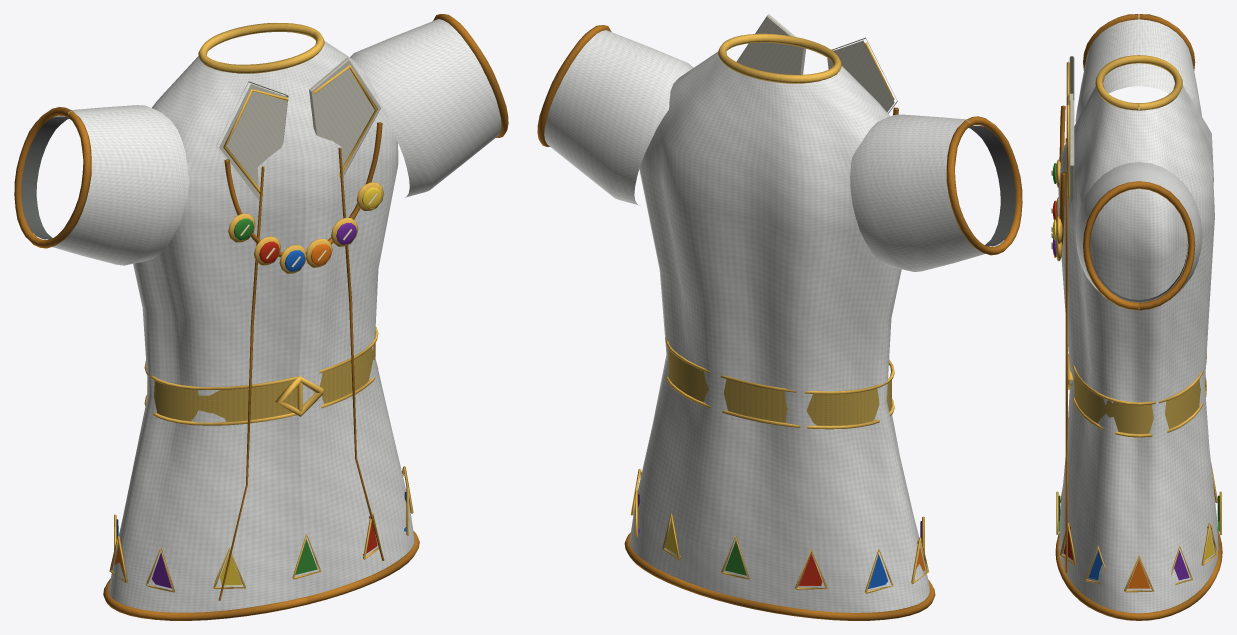
The model's file is sages_tunic.glb.
3 renders of one model, left to right at view 1: azimuth 30°, elevation 25°; view 2: azimuth 150°, elevation 25°; view 3: azimuth 270°, elevation 25°, orthographic. The views are drawn at different scales.
Parts seen in each view (by area): view 1: White woven sage robe, Hollow stitched sleeve (×2), Folded V-neck collar (×2), Fitted waist belt, Rolled sleeve cuff edge (×2), Sage robe gold hem seam, Sage robe front gold stitched seam (×2), Open neckline rolled seam, Sleeve dark inner cuff, Waist belt sewn piping (×2), Six sages embroidered neck chain, Square waist buckle rim; view 2: White woven sage robe, Hollow stitched sleeve (×2), Fitted waist belt, Folded V-neck collar (×2), Rolled sleeve cuff edge (×2), Sage robe gold hem seam, Open neckline rolled seam, Sleeve dark inner cuff, Waist belt sewn piping (×2); view 3: White woven sage robe, Hollow stitched sleeve (×2), Rolled sleeve cuff edge (×2), Fitted waist belt, Sage robe gold hem seam, Open neckline rolled seam, Sage robe front gold stitched seam, Waist belt sewn piping (×2), Folded V-neck collar (×2), Sage colored hem triangle (×2), Six sages embroidered neck chain, Collar stitched edging (+1 smaller).
Boxes of the visible parts, bbox=[...] form: White woven sage robe: bbox=[108, 41, 414, 612]; Hollow stitched sleeve (×2): bbox=[52, 19, 501, 265]; Folded V-neck collar (×2): bbox=[216, 57, 381, 199]; Fitted waist belt: bbox=[147, 343, 375, 421]; Rolled sleeve cuff edge (×2): bbox=[14, 14, 508, 248]; Sage robe gold hem seam: bbox=[103, 531, 419, 620]; Sage robe front gold stitched seam (×2): bbox=[218, 147, 384, 600]; Open neckline rolled seam: bbox=[198, 23, 324, 73]; Sleeve dark inner cuff: bbox=[21, 116, 69, 239]; Waist belt sewn piping (×2): bbox=[144, 326, 378, 425]; Six sages embroidered neck chain: bbox=[224, 122, 382, 257]; Square waist buckle rim: bbox=[275, 376, 323, 416]; White woven sage robe: bbox=[630, 51, 929, 612]; Hollow stitched sleeve (×2): bbox=[544, 30, 985, 271]; Fitted waist belt: bbox=[668, 349, 891, 425]; Folded V-neck collar (×2): bbox=[736, 14, 897, 113]; Rolled sleeve cuff edge (×2): bbox=[537, 25, 1022, 255]; Sage robe gold hem seam: bbox=[624, 532, 935, 620]; Open neckline rolled seam: bbox=[718, 33, 841, 83]; Sleeve dark inner cuff: bbox=[968, 125, 1015, 246]; Waist belt sewn piping (×2): bbox=[665, 337, 894, 429]; White woven sage robe: bbox=[1058, 86, 1218, 613]; Hollow stitched sleeve (×2): bbox=[1075, 17, 1202, 308]; Rolled sleeve cuff edge (×2): bbox=[1083, 14, 1195, 310]; Fitted waist belt: bbox=[1074, 372, 1205, 433]; Sage robe gold hem seam: bbox=[1055, 531, 1222, 620]; Open neckline rolled seam: bbox=[1095, 55, 1182, 110]; Sage robe front gold stitched seam: bbox=[1065, 172, 1067, 572]; Waist belt sewn piping (×2): bbox=[1072, 353, 1206, 437]; Folded V-neck collar (×2): bbox=[1069, 56, 1074, 203]; Sage colored hem triangle (×2): bbox=[1127, 550, 1189, 588]; Six sages embroidered neck chain: bbox=[1058, 105, 1065, 244]; Collar stitched edging: bbox=[1066, 105, 1069, 199].
Size of the model in its own units: 56.22 by 61.74 by 20.07.
Materials: 13 (13 with a texture image).
